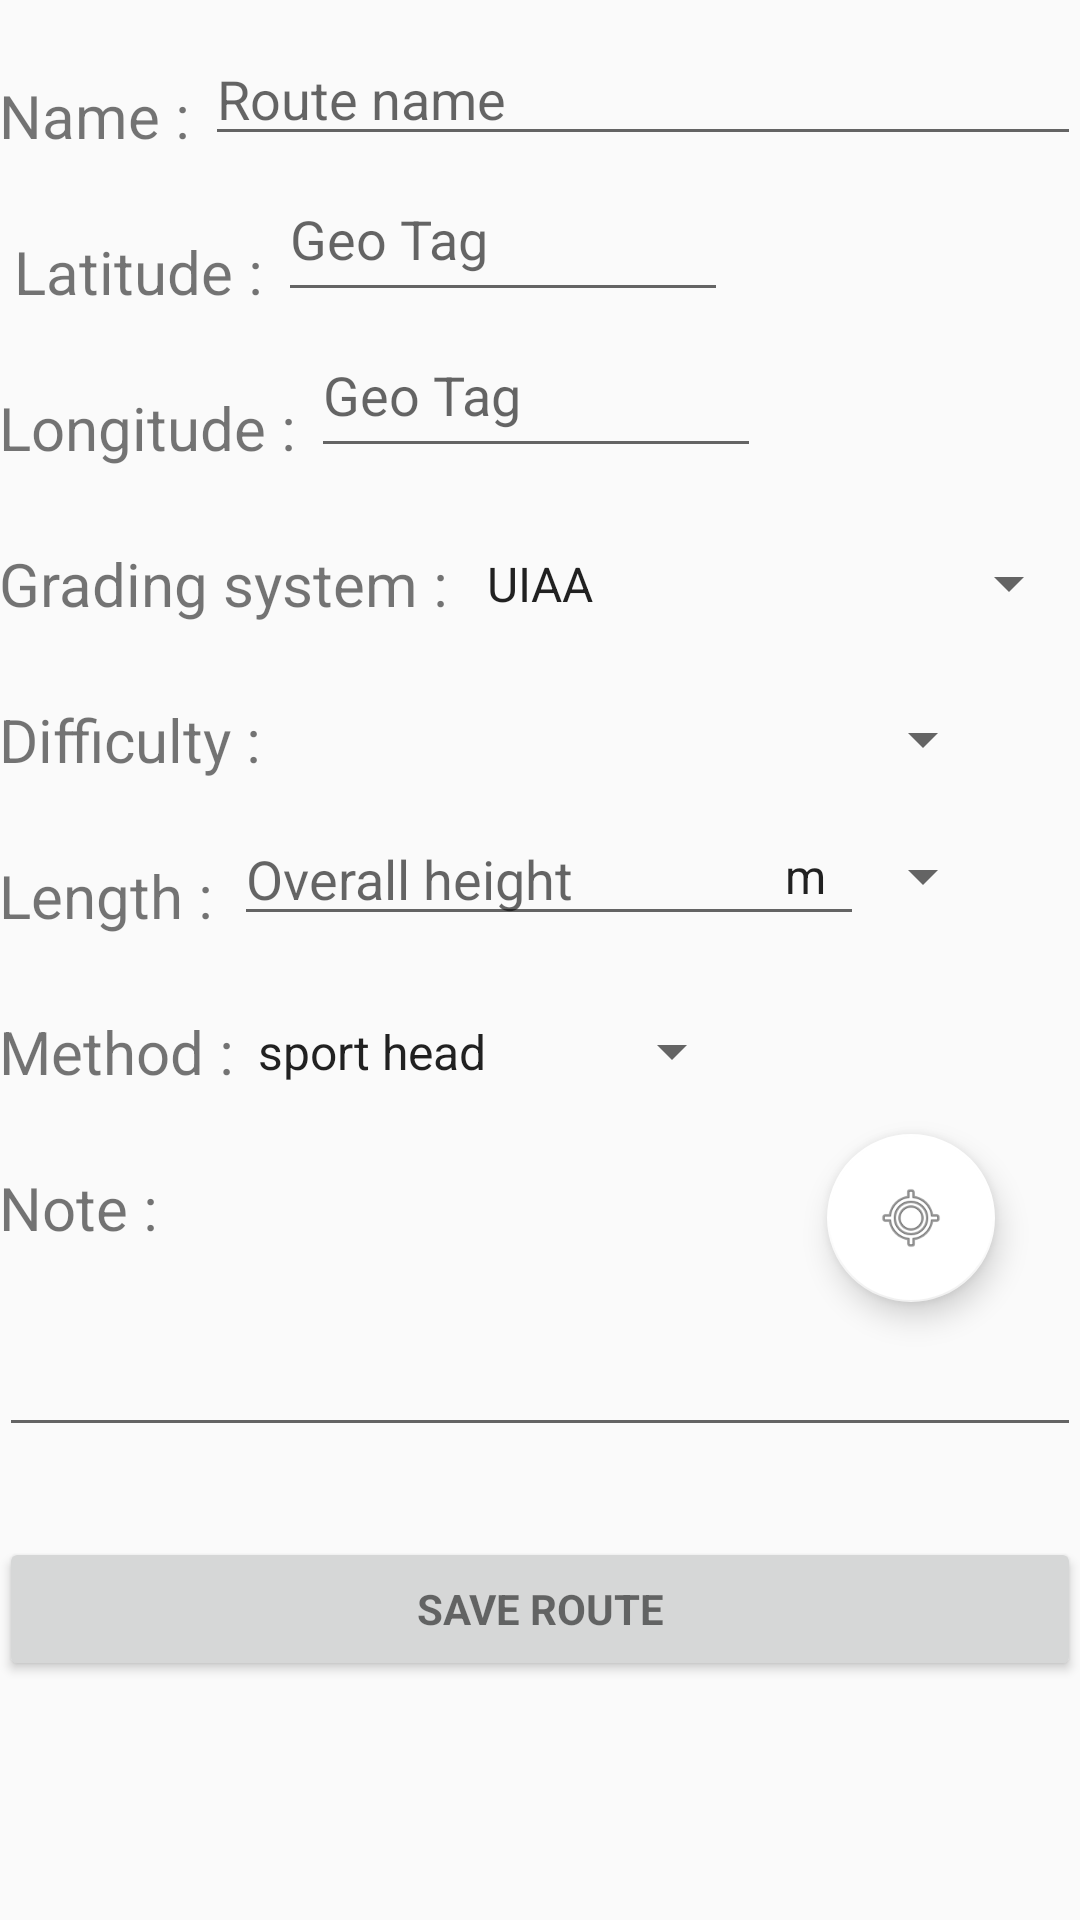

Where to tap for icons on this 1080×1920 app screen, as (x,y):
mylocation: (914,1245)
